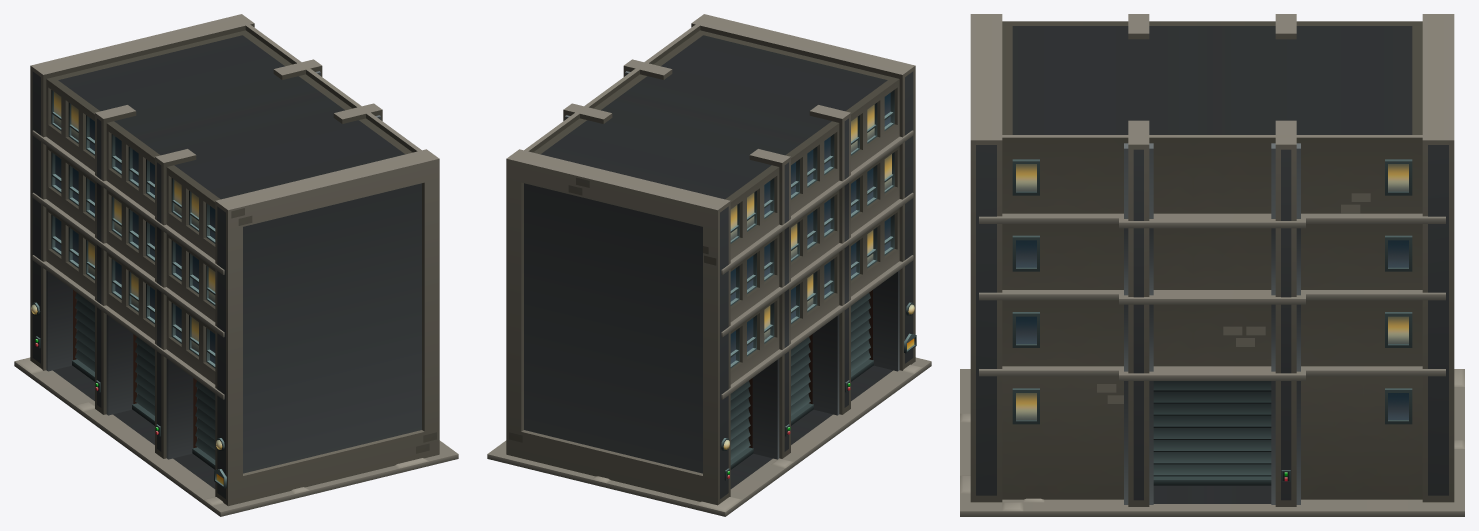
Rendered from Building_15B.fbx.
The picture shows the model from 3 angles, left to right: view 1: azimuth 30°, elevation 25°; view 2: azimuth 150°, elevation 25°; view 3: azimuth 270°, elevation 25°; orthographic projection. The views are drawn at different scales.
Parts seen in each view (by area): view 1: Building_15B, Window_Lights_15B, Addon_Gate_15B.R, Addon_Gate_15B.L, Addon_Gate_15B.M; view 2: Building_15B, Window_Lights_15B, Addon_Gate_15B.L, Addon_Gate_15B.R, Addon_Gate_15B.M; view 3: Building_15B, Window_Lights_15B.
Boxes of the visible parts, x1=… form: Building_15B: x1=14, y1=14, x2=458, y2=516; Window_Lights_15B: x1=54, y1=92, x2=215, y2=352; Addon_Gate_15B.R: x1=192, y1=381, x2=215, y2=469; Addon_Gate_15B.L: x1=72, y1=293, x2=94, y2=381; Addon_Gate_15B.M: x1=132, y1=337, x2=154, y2=425; Building_15B: x1=487, y1=14, x2=931, y2=516; Window_Lights_15B: x1=730, y1=104, x2=891, y2=339; Addon_Gate_15B.L: x1=730, y1=381, x2=753, y2=469; Addon_Gate_15B.R: x1=851, y1=293, x2=873, y2=381; Addon_Gate_15B.M: x1=791, y1=337, x2=813, y2=425; Building_15B: x1=960, y1=14, x2=1464, y2=516; Window_Lights_15B: x1=1016, y1=164, x2=1408, y2=420.
Size of the model in its own units: 16 by 19.3 by 24.
